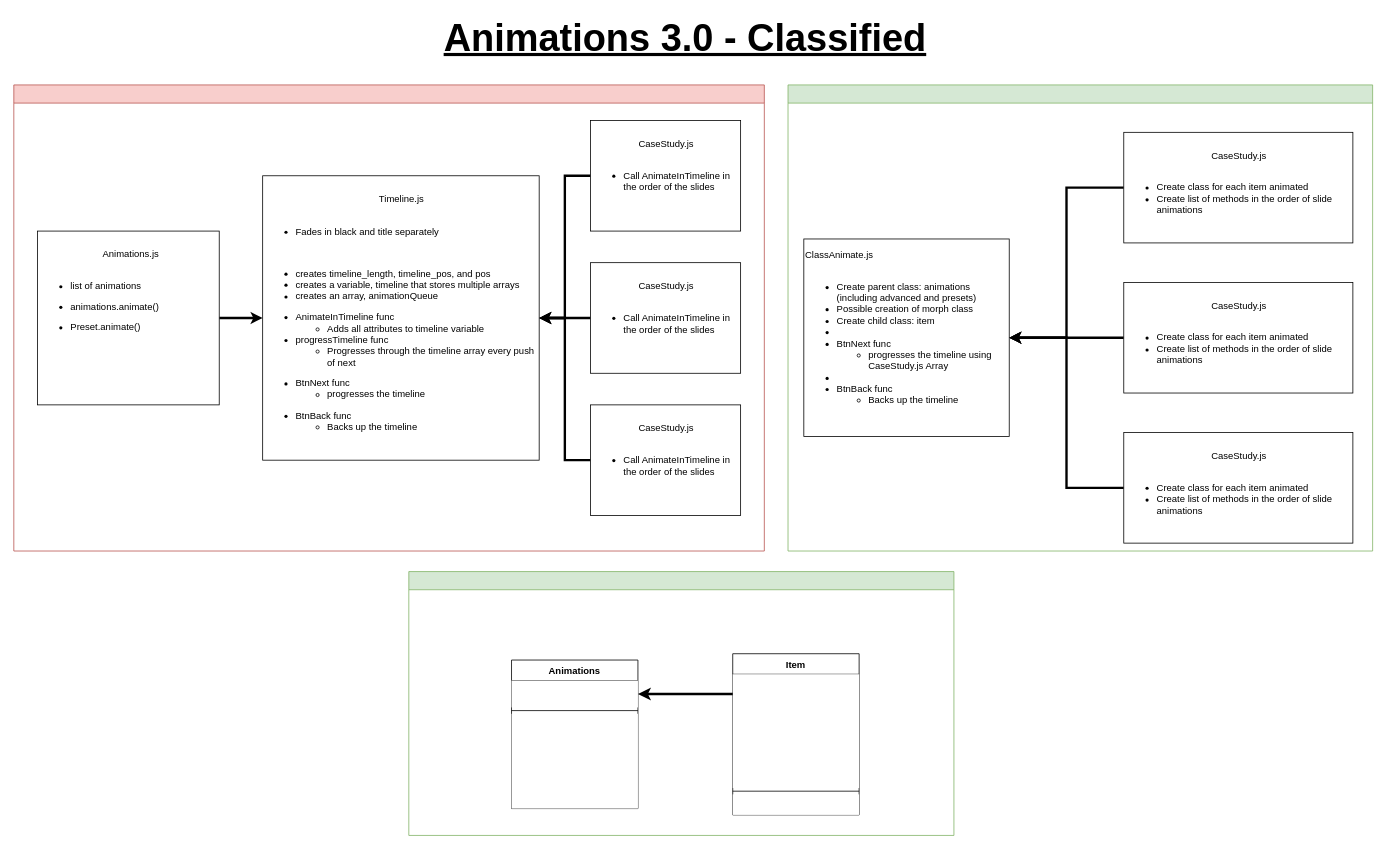
The diagram is 1386 pixels wide and 849 high, and some of its shapes have lost their labels. The shapes that lost their labels are listed below. From the top down, each one's box as (x1, y1, x2, y2) in pixels, then its label:
(13, 84, 764, 551): Old Animation System
(787, 84, 1373, 551): New System
(408, 571, 954, 835): Class Diagram
(732, 674, 859, 788): -item_ID : string -og_x : int -og_y : int -og_opacity -og_rotation -og_scale
(511, 713, 638, 808): +Advanced(): func + FadeIn() : func +FadeOut() : func etc...
(732, 794, 859, 814): Constructor(ID_String)
